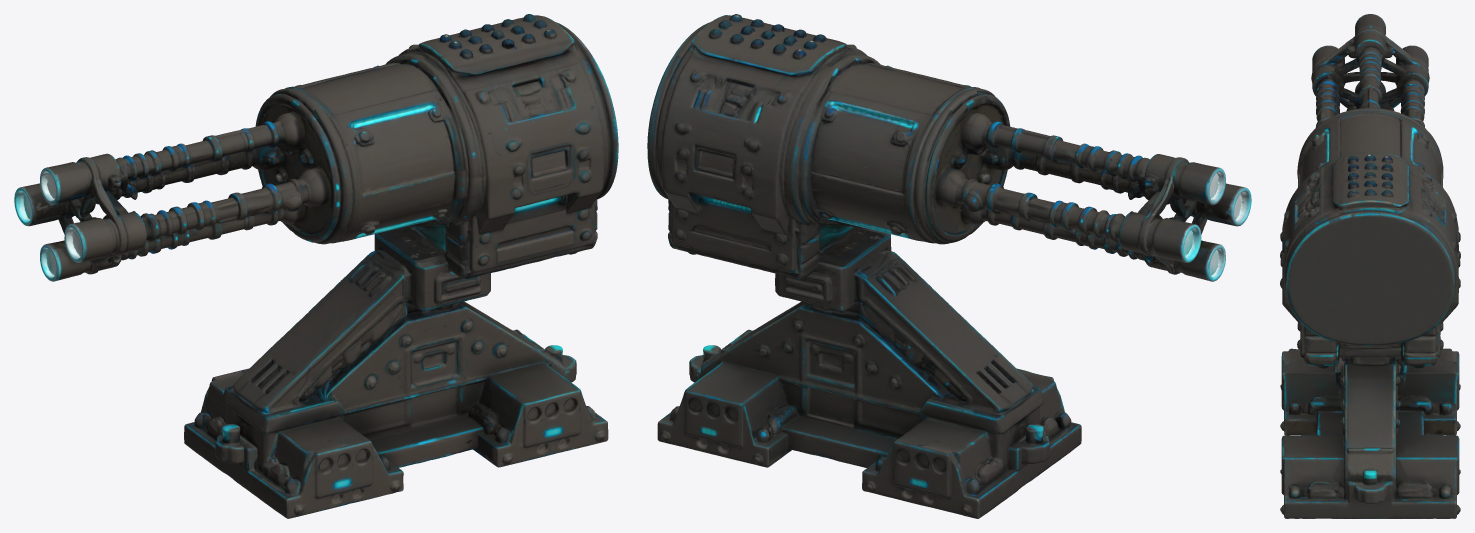
File: laser_turret.glb
3 renders of one model, left to right at view 1: azimuth 30°, elevation 25°; view 2: azimuth 150°, elevation 25°; view 3: azimuth 270°, elevation 25°, orthographic. The views are drawn at different scales.
Bounding box in the file's own units: 1.92 × 1.35 × 0.6853.
1 material, 1 textured.
